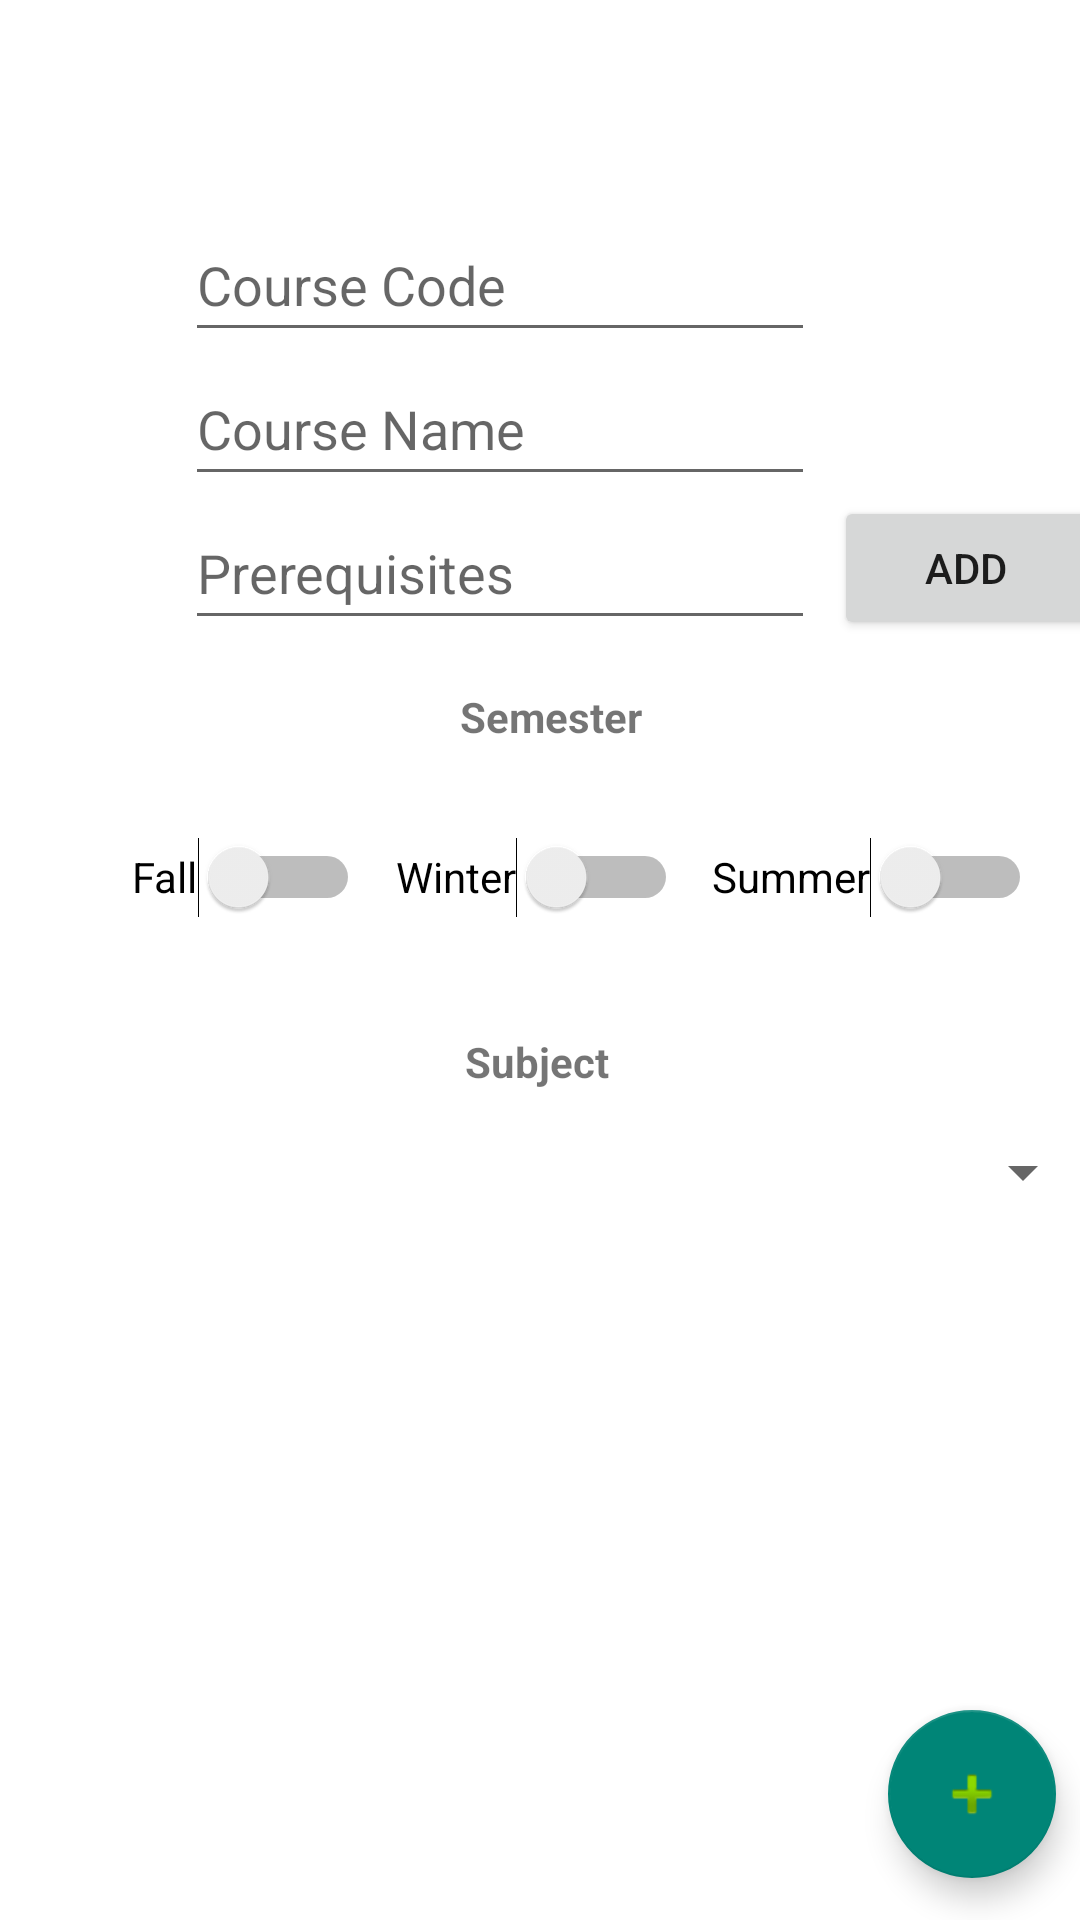

Screen size 1080 × 1920. Icon name, then its box in pixels as (left=x1, top=y1, right=x2, bottom=y2):
add: (left=888, top=1710, right=1056, bottom=1878)
